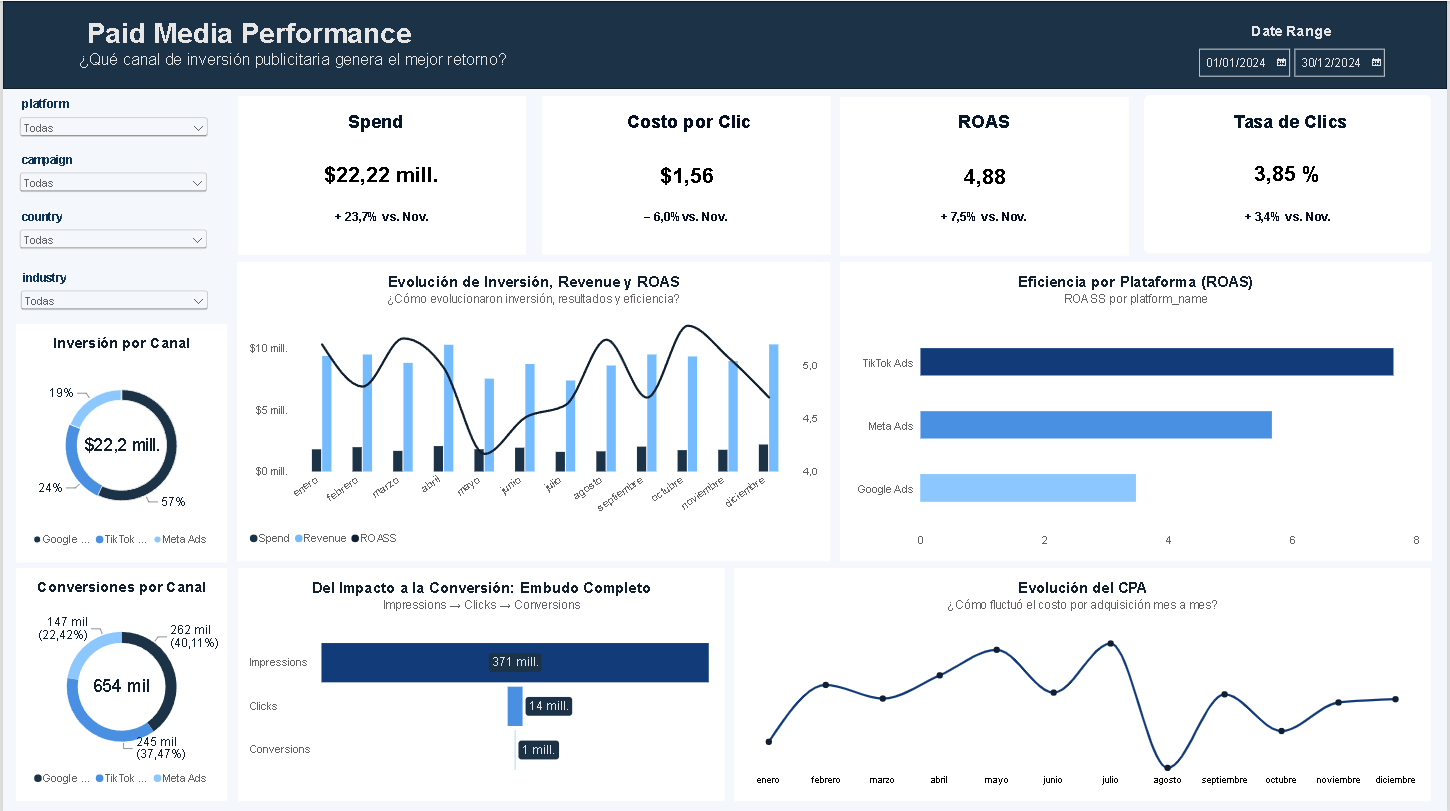

The dashboard page shown, as its layout file describes it:
{"tool":"powerbi","page":{"name":"Executive Overview","canvas":[1920,1080],"ordinal":0},"visuals":[{"type":"cardVisual","fields":{"Data":["public fact_ads_performance.ROASS"]},"box":[1112.9,127.1,384.3,211.4],"z":0},{"type":"cardVisual","fields":{"Data":["Sum(public fact_ads_performance.spend)"]},"box":[312.6,126.4,382.9,211.4],"z":1000},{"type":"lineClusteredColumnComboChart","title":"Evolución de Inversión, Revenue y ROAS","fields":{"Category":["public fact_ads_performance.date.Variación.Jerarquía de fechas.Mes"],"Y":["Sum(public fact_ads_performance.spend)","Sum(public fact_ads_performance.revenue)"],"Y2":["public fact_ads_performance.ROASS"]},"box":[311.2,347.1,788.7,397.7],"z":3000},{"type":"cardVisual","fields":{"Data":["public fact_ads_performance.CTR"]},"box":[1517.6,125,382,211.4],"z":4000},{"type":"slicer","title":"Plataform","fields":{"Values":["public dim_platform.platform_name"]},"box":[17.3,127.7,260.1,70.9],"z":5000},{"type":"slicer","fields":{"Values":["public dim_campaign_type.campaign_type_name"]},"box":[17.3,202.2,258.7,68],"z":6000},{"type":"slicer","fields":{"Values":["public dim_country.country_name"]},"box":[17.3,278,258.7,70.9],"z":7000},{"type":"slicer","fields":{"Values":["public dim_industry.industry_name"]},"box":[18.6,359.1,258.7,70],"z":8000},{"type":"textbox","box":[55.9,14.6,706.5,102],"z":9000},{"type":"funnel","title":"Del Impacto a la Conversión: Embudo Completo","fields":{"Category":["FunnelStages.Stage"],"Y":["FunnelStages.Funnel Value"]},"box":[312.9,754.3,647.1,310],"z":10000},{"type":"textbox","box":[458.9,146.3,89.1,34.6],"z":11000},{"type":"textbox","box":[828.6,146.3,162.3,34.6],"z":12000},{"type":"textbox","box":[778.1,146.3,259.4,34.6],"z":13000},{"type":"textbox","box":[1582.8,146.3,259.4,34.6],"z":14000},{"type":"lineChart","title":"Evolución del CPA","fields":{"Category":["public fact_ads_performance.date.Variación.Jerarquía de fechas.Mes"],"Y":["public fact_ads_performance.CPA"]},"box":[972.9,754.3,927.1,310],"z":15000},{"type":"donutChart","title":"Inversión por Canal","fields":{"Category":["public dim_platform.platform_name"],"Y":["Sum(public fact_ads_performance.spend)"]},"box":[17.3,429.6,280.6,316.6],"z":16000},{"type":"clusteredBarChart","title":"Eficiencia por Plataforma (ROAS)","fields":{"Category":["public dim_platform.platform_name"],"Y":["public fact_ads_performance.ROASS"]},"box":[1113.3,347.1,787.4,397.7],"z":17000},{"type":"donutChart","title":"Conversiones por Canal","fields":{"Y":["Sum(public fact_ads_performance.conversions)"],"Category":["public dim_platform.platform_name"]},"box":[17,754,281,310],"z":18000},{"type":"shape","box":[0,0,1920.6,117],"z":19000},{"type":"textbox","box":[101.1,21.3,594.5,89.1],"z":20000},{"type":"slicer","title":"ttata","fields":{"Values":["public fact_ads_performance.date"]},"box":[1582.8,58.5,282,50.5],"z":21000},{"type":"textbox","box":[1562.8,27.9,300.6,30.6],"z":22000},{"type":"textbox","box":[353.8,278,300.6,22.6],"z":23000},{"type":"textbox","box":[759.5,278,300.6,35.9],"z":24000},{"type":"textbox","box":[762.1,278,300.6,22.6],"z":25000},{"type":"textbox","box":[1154.5,278,300.6,37.2],"z":26000},{"type":"cardVisual","fields":{"Data":["public fact_ads_performance.CPC"]},"box":[716.9,126.4,384.3,211.4],"z":27001},{"type":"textbox","box":[762.1,146.3,300.6,34.6],"z":27002},{"type":"textbox","box":[758.1,278,300.6,30.6],"z":27003},{"type":"textbox","box":[1558.8,278,300.6,35.9],"z":27004},{"type":"textbox","box":[1154.5,146.3,300.6,34.6],"z":27005}]}

Visuals, with their boxes in screenshot pixels (x1, y1, x2, y2), scaled from the page's 1920x1080 canvas onto the 1450x811 screenshot:
cardVisual - public fact_ads_performance.ROASS: [840, 95, 1131, 254]
cardVisual - Sum(public fact_ads_performance.spend): [236, 95, 525, 254]
"Evolución de Inversión, Revenue y ROAS" lineClusteredColumnComboChart: [235, 261, 831, 559]
cardVisual - public fact_ads_performance.CTR: [1146, 94, 1435, 253]
"Plataform" slicer: [13, 96, 209, 149]
slicer - public dim_campaign_type.campaign_type_name: [13, 152, 208, 203]
slicer - public dim_country.country_name: [13, 209, 208, 262]
slicer - public dim_industry.industry_name: [14, 270, 209, 322]
textbox: [42, 11, 576, 88]
"Del Impacto a la Conversión: Embudo Completo" funnel: [236, 566, 725, 799]
textbox: [347, 110, 414, 136]
textbox: [626, 110, 748, 136]
textbox: [588, 110, 784, 136]
textbox: [1195, 110, 1391, 136]
"Evolución del CPA" lineChart: [735, 566, 1435, 799]
"Inversión por Canal" donutChart: [13, 323, 225, 560]
"Eficiencia por Plataforma (ROAS)" clusteredBarChart: [841, 261, 1435, 559]
"Conversiones por Canal" donutChart: [13, 566, 225, 799]
shape: [0, 0, 1449, 88]
textbox: [76, 16, 525, 83]
"ttata" slicer: [1195, 44, 1408, 82]
textbox: [1180, 21, 1407, 44]
textbox: [267, 209, 494, 226]
textbox: [574, 209, 801, 236]
textbox: [576, 209, 803, 226]
textbox: [872, 209, 1099, 237]
cardVisual - public fact_ads_performance.CPC: [541, 95, 832, 254]
textbox: [576, 110, 803, 136]
textbox: [573, 209, 800, 232]
textbox: [1177, 209, 1404, 236]
textbox: [872, 110, 1099, 136]
